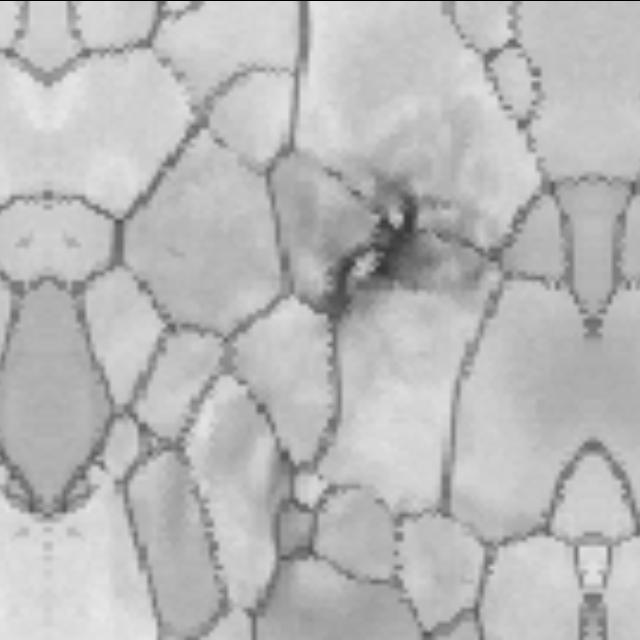good_void: (278, 102, 502, 384)
